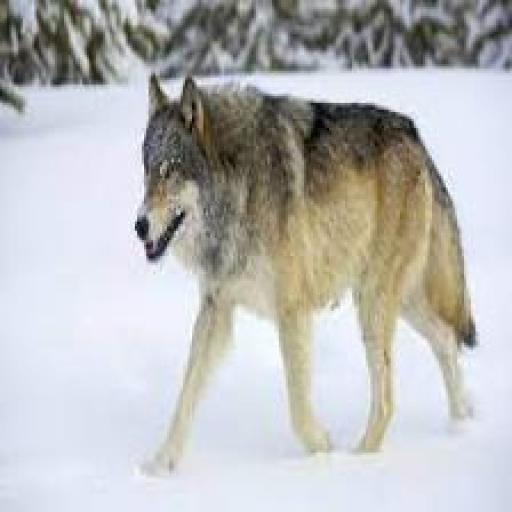wolf: (114, 62, 484, 487)
